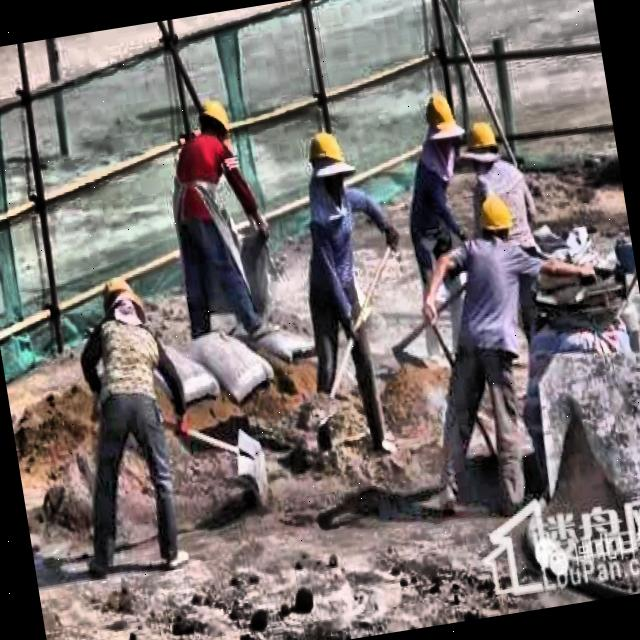helmet: (418, 88, 468, 172), (302, 127, 354, 198), (192, 90, 238, 155), (460, 114, 506, 179), (101, 278, 150, 334), (474, 192, 520, 246)
